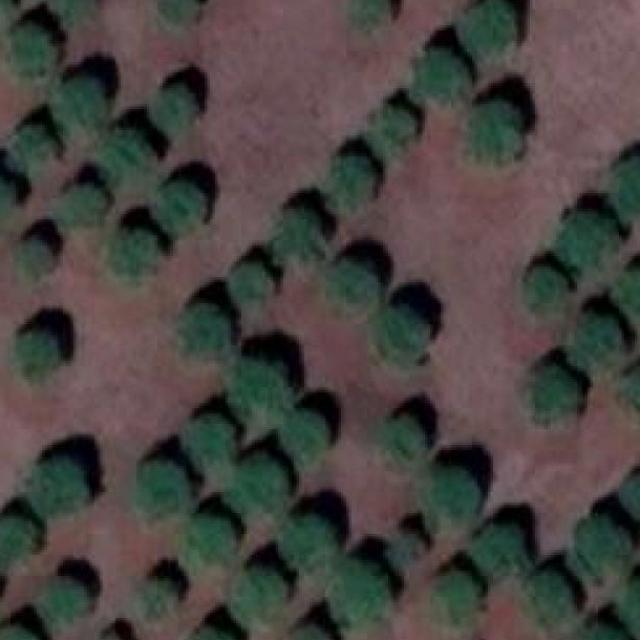Tree: (331, 560, 388, 626), (556, 211, 617, 272), (572, 518, 632, 579), (226, 455, 286, 513), (422, 468, 479, 529), (373, 308, 430, 369), (233, 361, 291, 416), (230, 569, 285, 626), (411, 51, 472, 102), (524, 366, 579, 422), (97, 128, 152, 184), (278, 516, 336, 569), (569, 317, 624, 372), (464, 0, 514, 60), (469, 100, 516, 162), (34, 461, 86, 516), (154, 183, 205, 238), (54, 78, 105, 133), (184, 518, 236, 569), (110, 230, 161, 282), (472, 526, 525, 576), (142, 464, 188, 521), (178, 305, 229, 356), (330, 153, 372, 214), (526, 571, 572, 626), (186, 419, 236, 469), (327, 262, 380, 308), (284, 413, 326, 471), (37, 582, 89, 626), (370, 109, 414, 160), (8, 27, 52, 78), (54, 185, 105, 228), (432, 574, 474, 626), (8, 128, 54, 175), (382, 416, 427, 464), (275, 214, 322, 259), (0, 515, 40, 566), (18, 332, 58, 378), (611, 156, 640, 219), (154, 88, 196, 130), (527, 270, 563, 314), (231, 265, 273, 301), (139, 581, 175, 623), (352, 0, 394, 33), (614, 266, 640, 317), (617, 368, 640, 424), (390, 532, 422, 569), (49, 0, 96, 25), (18, 240, 49, 272), (160, 0, 196, 25), (0, 172, 14, 232), (624, 578, 640, 629), (580, 625, 628, 640), (621, 476, 640, 513), (292, 625, 328, 640), (186, 630, 237, 640), (0, 628, 37, 640), (102, 633, 123, 640)
